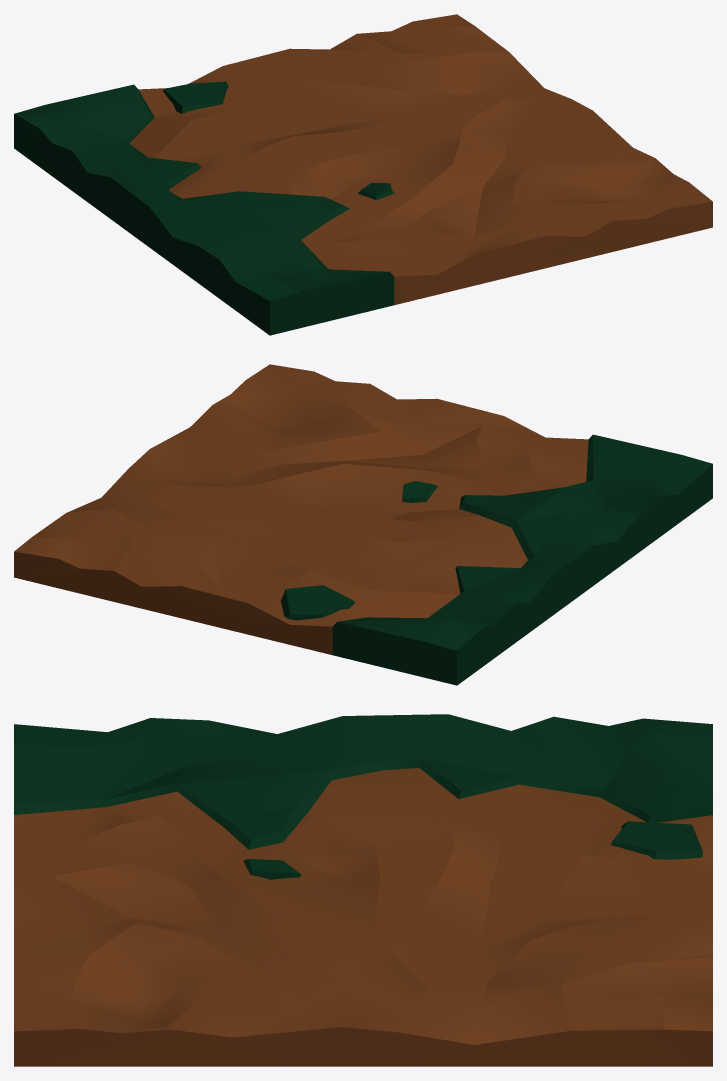
File: Ground_Edge_L_1.fbx
3 renders of one model, top to bottom at view 1: azimuth 30°, elevation 25°; view 2: azimuth 150°, elevation 25°; view 3: azimuth 270°, elevation 25°, orthographic. The views are drawn at different scales.
Parts seen in each view (by area): view 1: Ground_Edge_L_1; view 2: Ground_Edge_L_1; view 3: Ground_Edge_L_1.
Boxes of the visible parts, x1,y1,x2,y2 form: Ground_Edge_L_1: (14, 14, 712, 335); Ground_Edge_L_1: (14, 364, 712, 685); Ground_Edge_L_1: (14, 714, 712, 1066).
Bounding box in the file's own units: 147 × 13.97 × 147.
